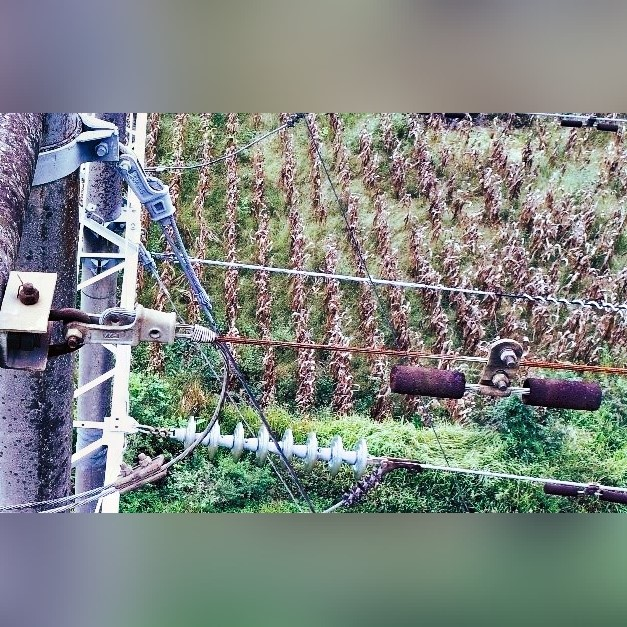Shockproof hammer: (381, 336, 610, 419)
